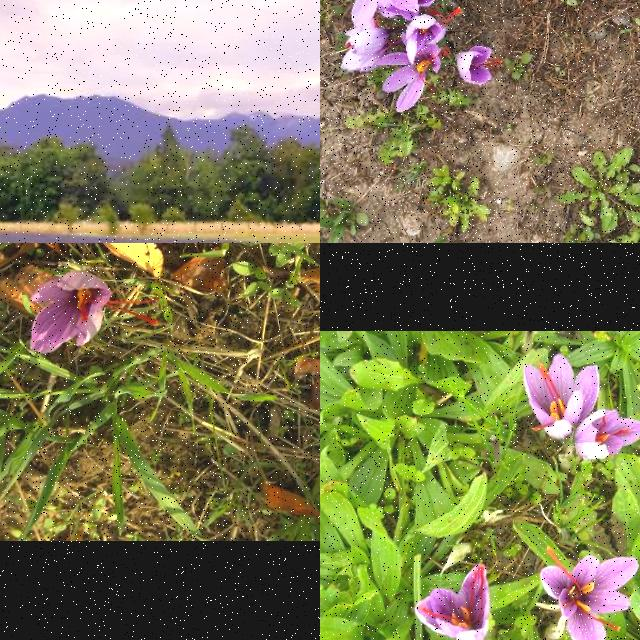flower: (29, 270, 159, 354), (540, 547, 639, 640), (523, 354, 601, 440), (414, 563, 491, 640), (574, 410, 640, 460), (454, 45, 504, 85)
overlap: (341, 0, 462, 112)
